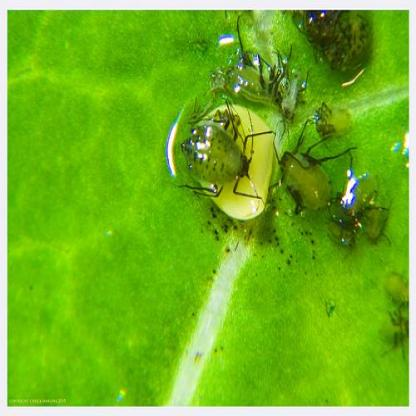aphid: (170, 104, 276, 201), (223, 22, 303, 112), (281, 115, 344, 226)
